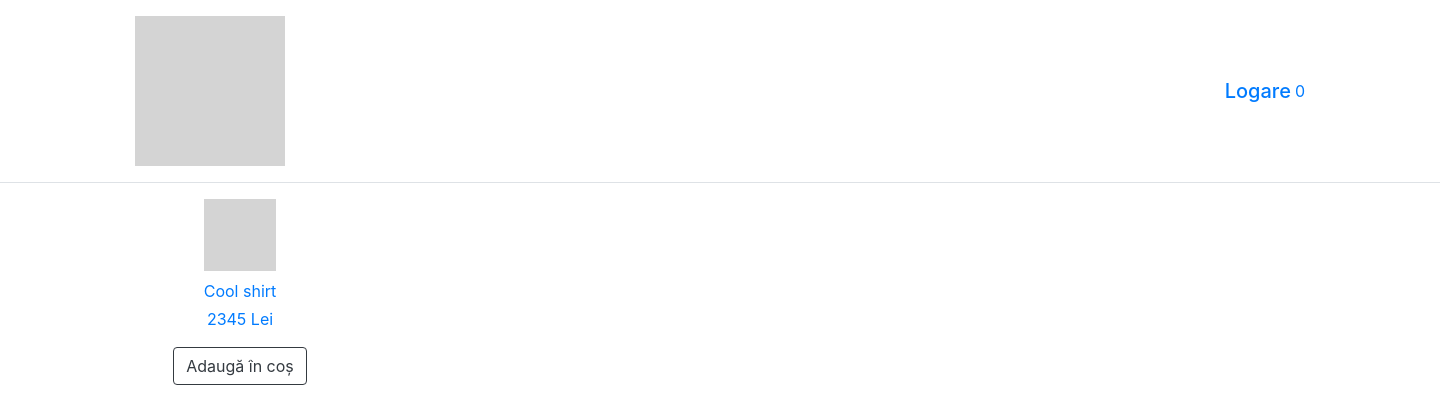
click on add to cart button adds product to cart
Expected: the element with test id "header-cart-section" reads "0", [1291,79,1305,103]
Click the button "Adaugă în coș". click: point(240, 366)
box: [173,347,307,385]
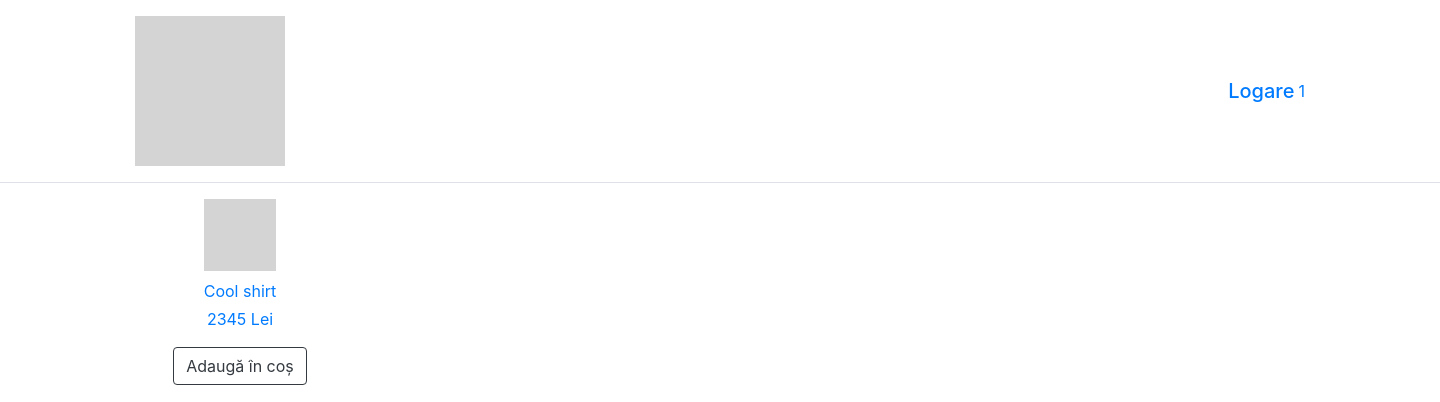
Expected: the element with test id "header-cart-section" reads "1", [1294,79,1305,103]
